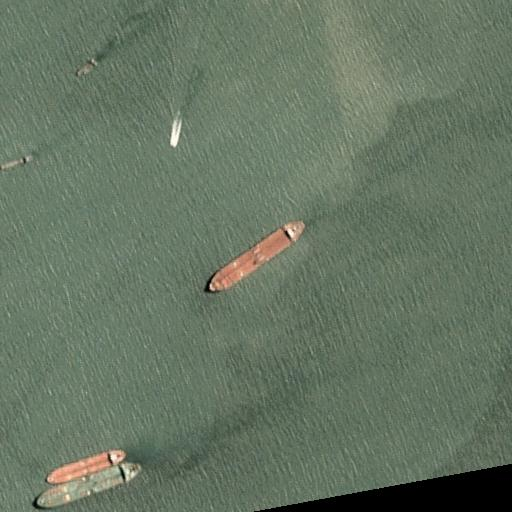ship: (206, 220, 306, 292), (34, 461, 146, 511), (48, 447, 130, 481), (0, 154, 35, 171), (74, 56, 100, 77), (171, 138, 178, 148)
